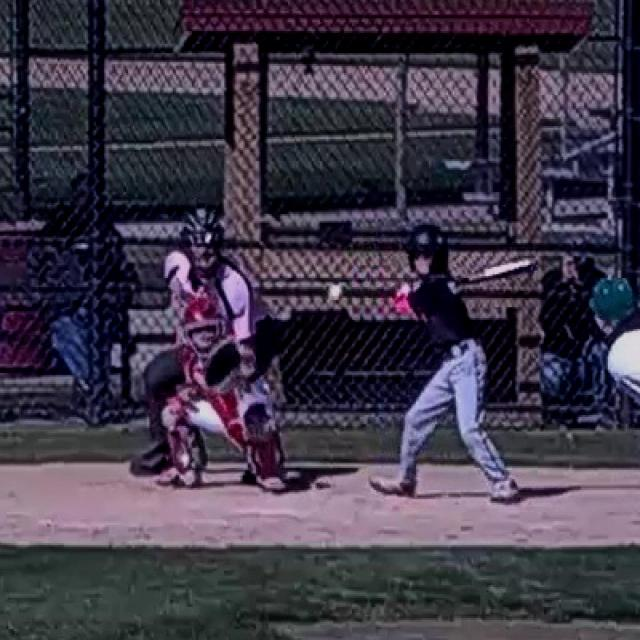baseball: (329, 285, 342, 301)
